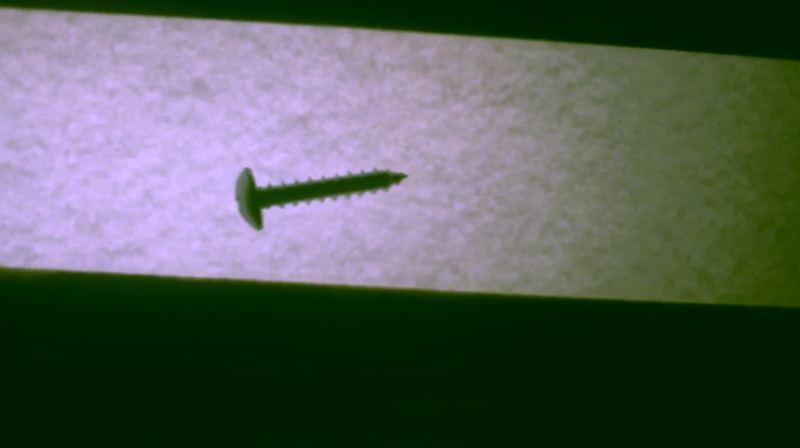S003: (231, 164, 409, 232)
